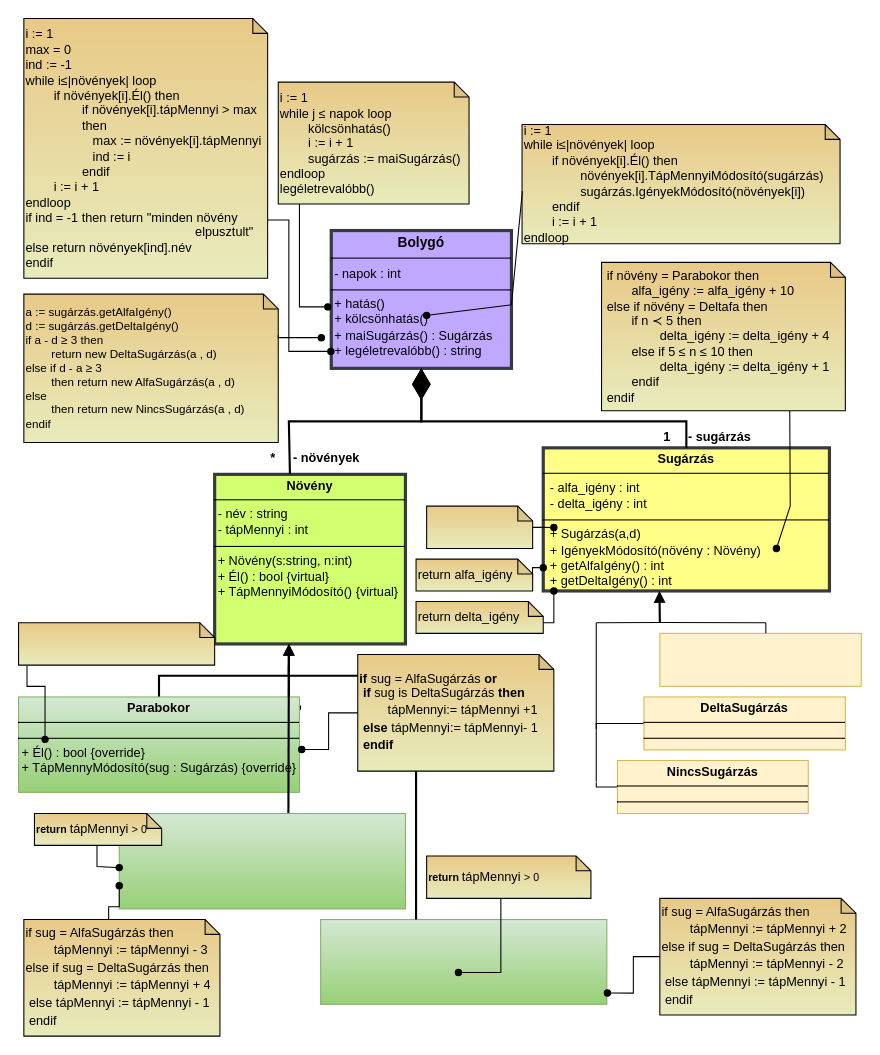
Image size: 880x1055. Some labels were removed from this diagram. Each missing label, with the centre of its shape:
"alfa_igény := a delta_igény := d" goes at (479,527).
"AlfaSugárzás" goes at (760,659).
"Deltafa + Él() : bool {override} + TápMennyMódosító(sug : Sugárzás) {override}" goes at (261,860).
"Puffancs + Él() : bool {override} + TápMennyMódosító(sug : Sugárzás) {override}" goes at (463,961).
"return ( tápMennyi < 10 and tápMennyi > 0 )" goes at (116,643).
